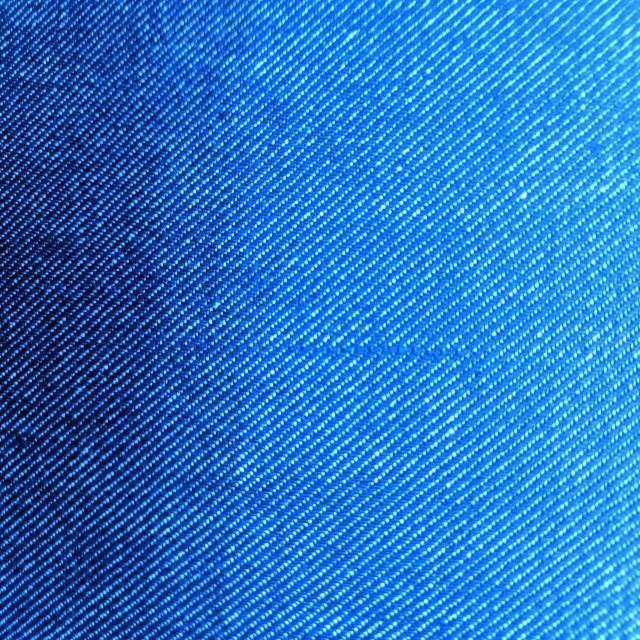Line: (74, 342, 467, 361)
